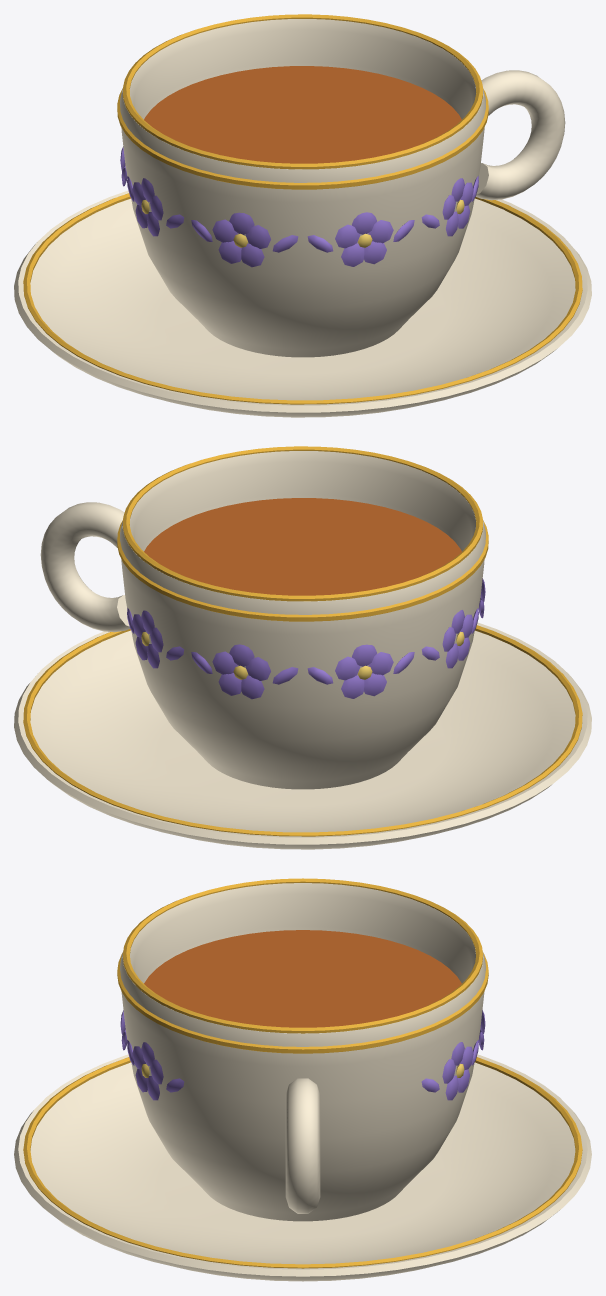
The model's file is giant_teacup.glb.
3 views of the same model, one above another, from view 1: azimuth 30°, elevation 25°; view 2: azimuth 150°, elevation 25°; view 3: azimuth 270°, elevation 25° (orthographic).
Visible parts, largest first — view 1: giant_teacup; view 2: giant_teacup; view 3: giant_teacup.
Boxes of the visible parts, x1,y1,x2,y2 form: giant_teacup: [14, 14, 591, 417]; giant_teacup: [14, 446, 591, 849]; giant_teacup: [14, 878, 591, 1281].
Bounding box in the file's own units: 4 × 1.88 × 3.93.
